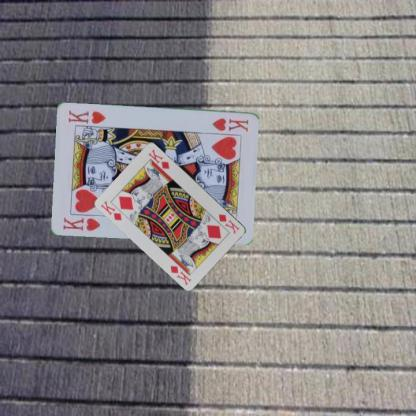Kd: (98, 198, 123, 222), (216, 212, 240, 235)
Kh: (61, 214, 102, 233), (209, 115, 250, 133)
